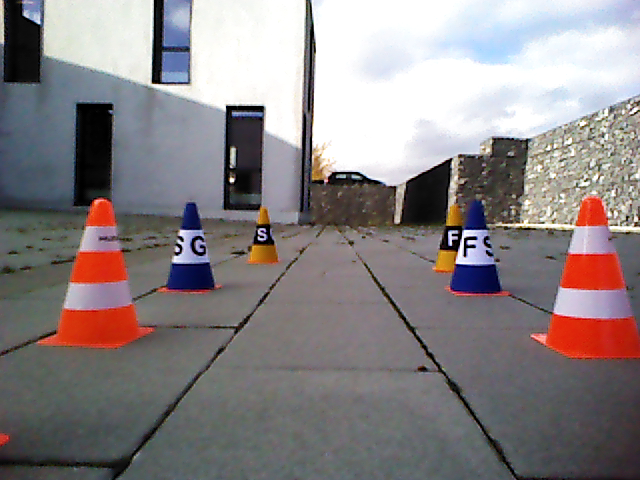bluecone: (453, 202, 504, 293), (168, 202, 216, 290)
orangeconesmall: (547, 197, 638, 355), (56, 197, 138, 343)
yellowcone: (435, 203, 457, 271), (250, 208, 277, 261)
